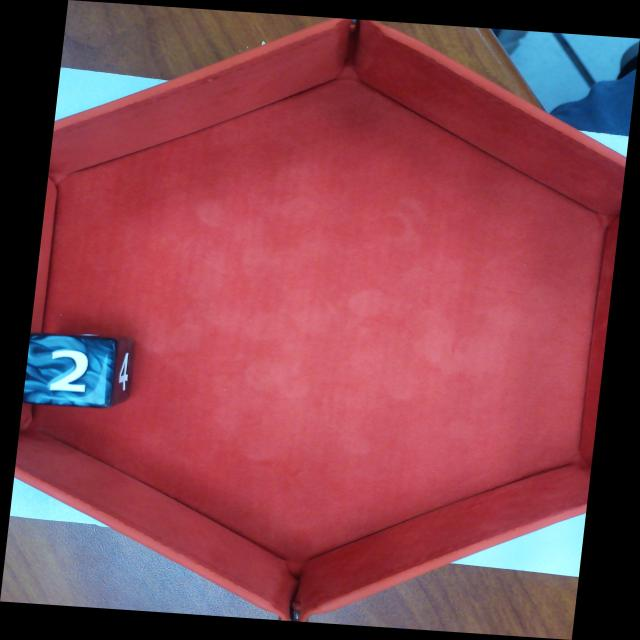dice: (23, 334, 116, 408)
